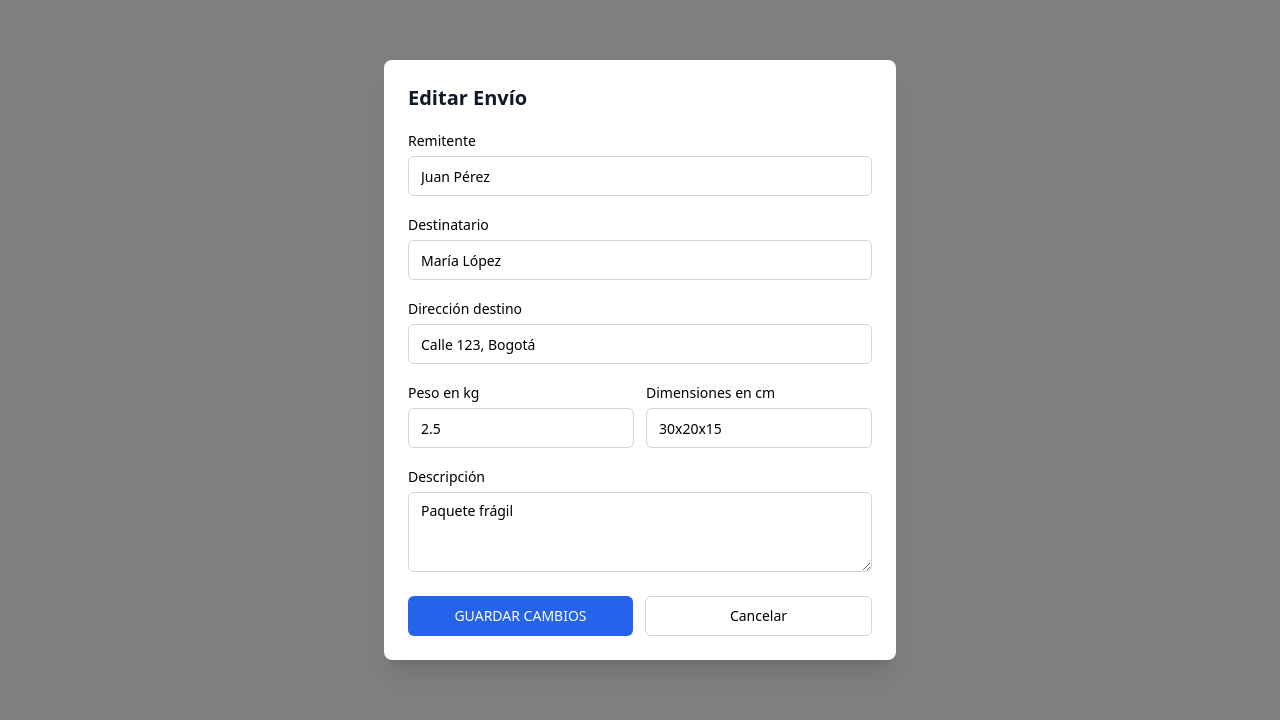
Test case: EditarEnvioModal component › debe mostrar errores de validación al enviar con peso negativo
This screenshot has width=1280, height=720.
Replace the text in the number field labelled "Peso en kg" with "-5" at (521, 428), box [408, 408, 634, 448]
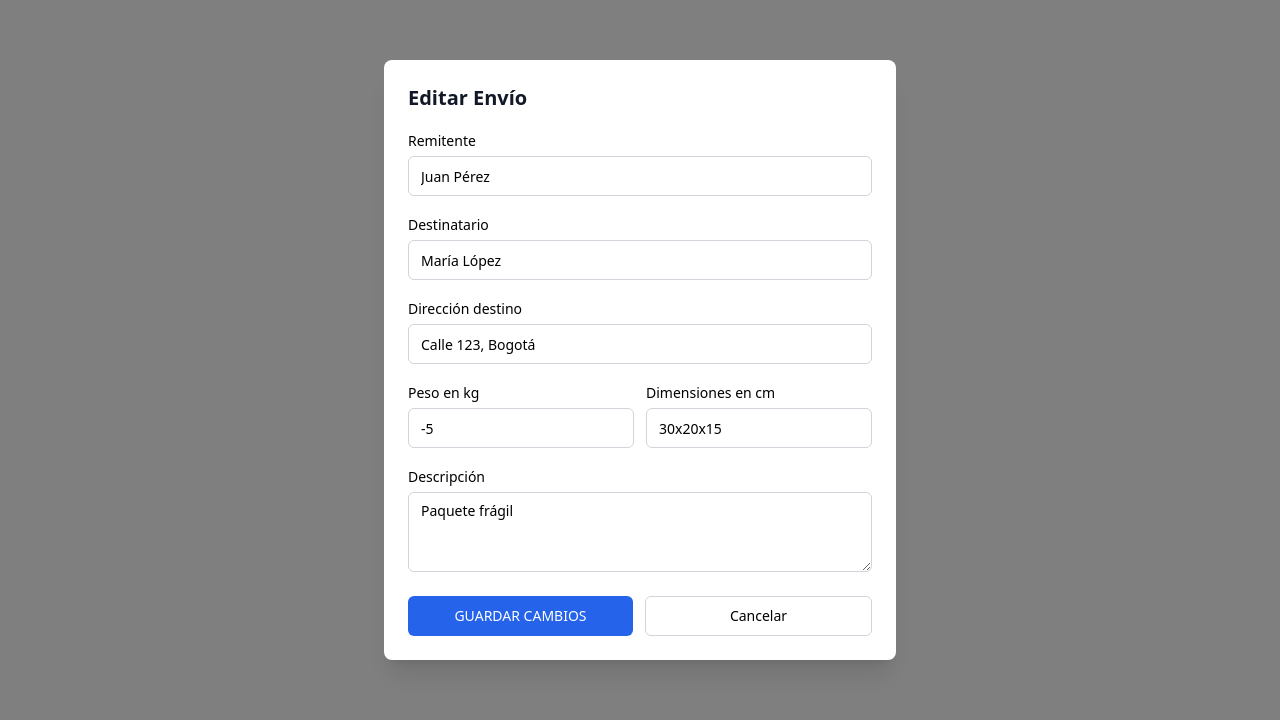
Click the button "GUARDAR CAMBIOS" at (520, 616), box [408, 596, 633, 636]
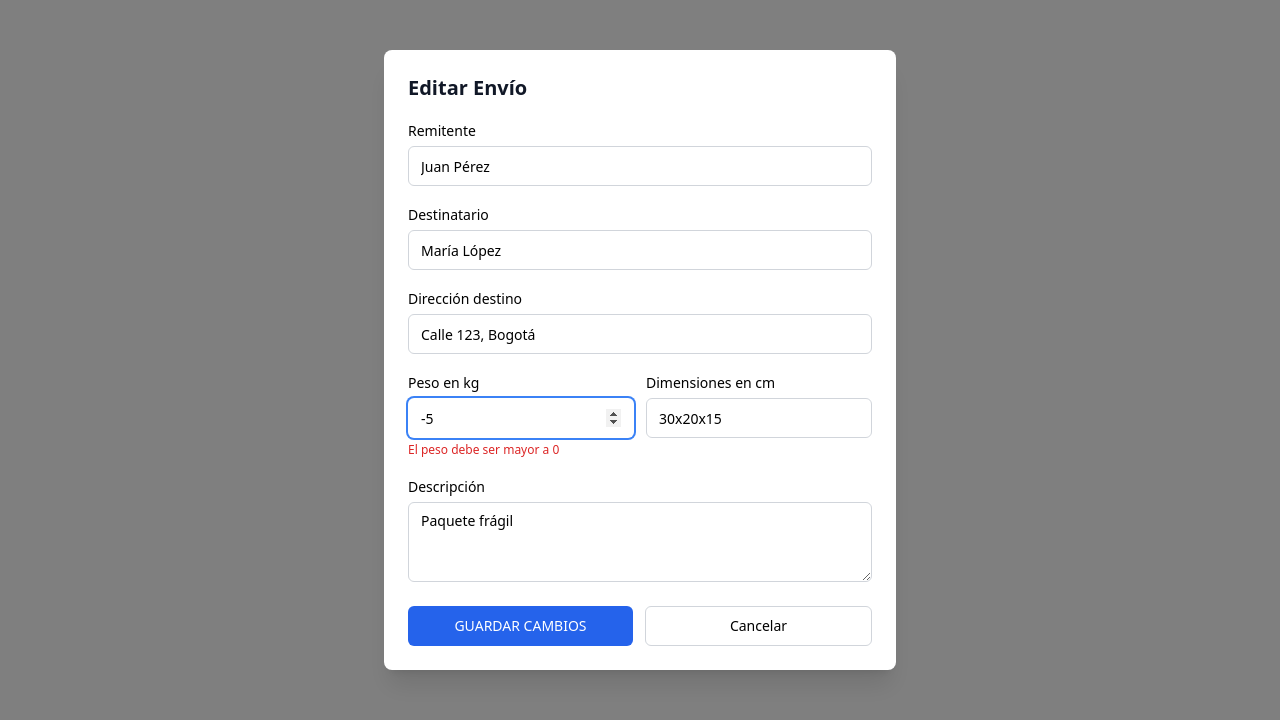
Check: the text "El peso debe ser mayor a 0" is shown, box [408, 441, 559, 458]
